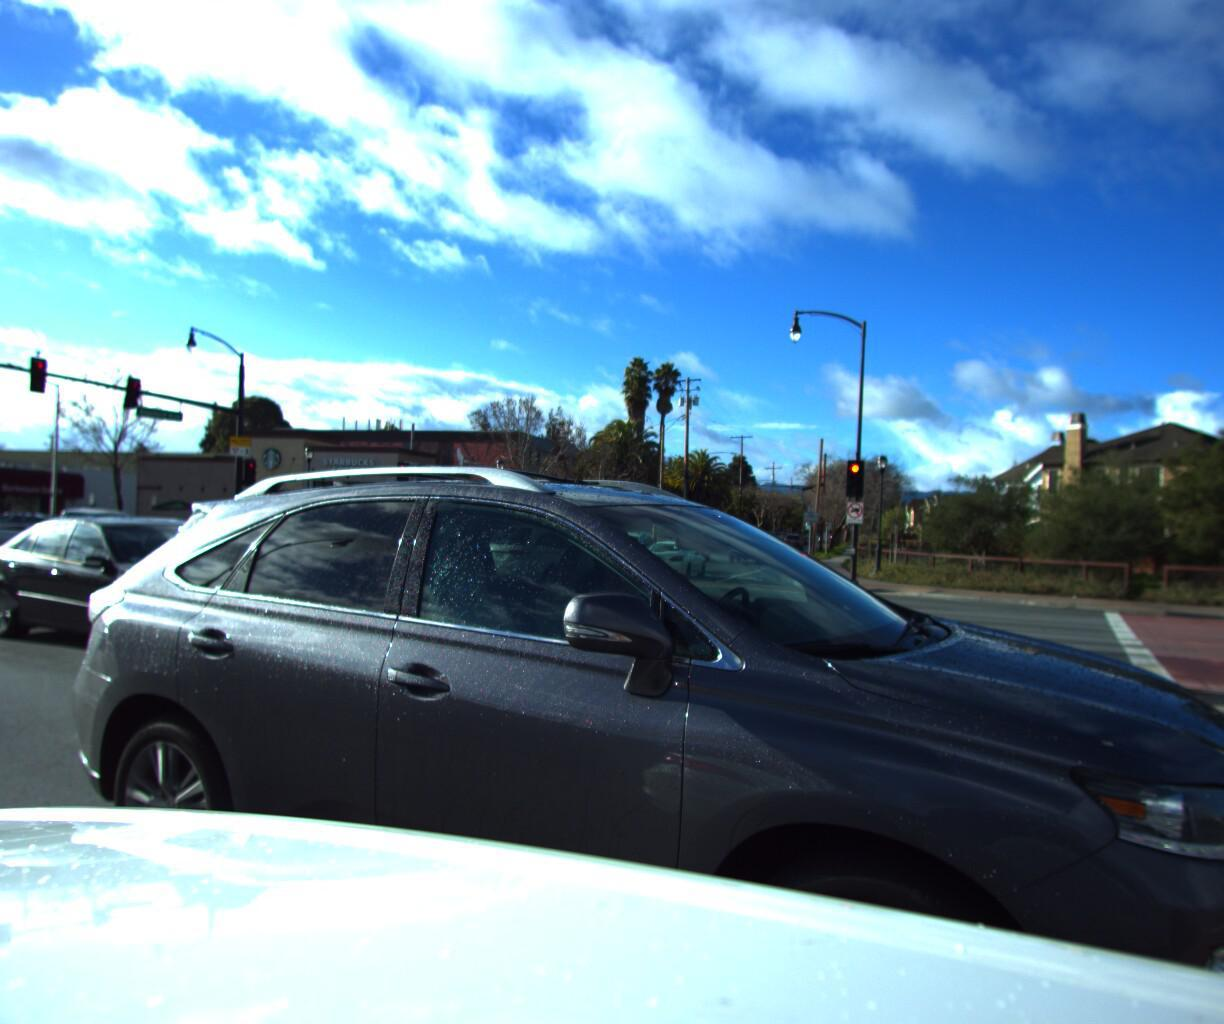car: (11, 435, 1224, 1024), (0, 511, 373, 688), (0, 499, 218, 588), (0, 502, 81, 550), (727, 519, 773, 558), (783, 527, 807, 545)
